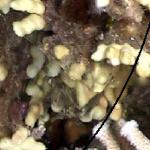alive: (1, 1, 147, 147)
